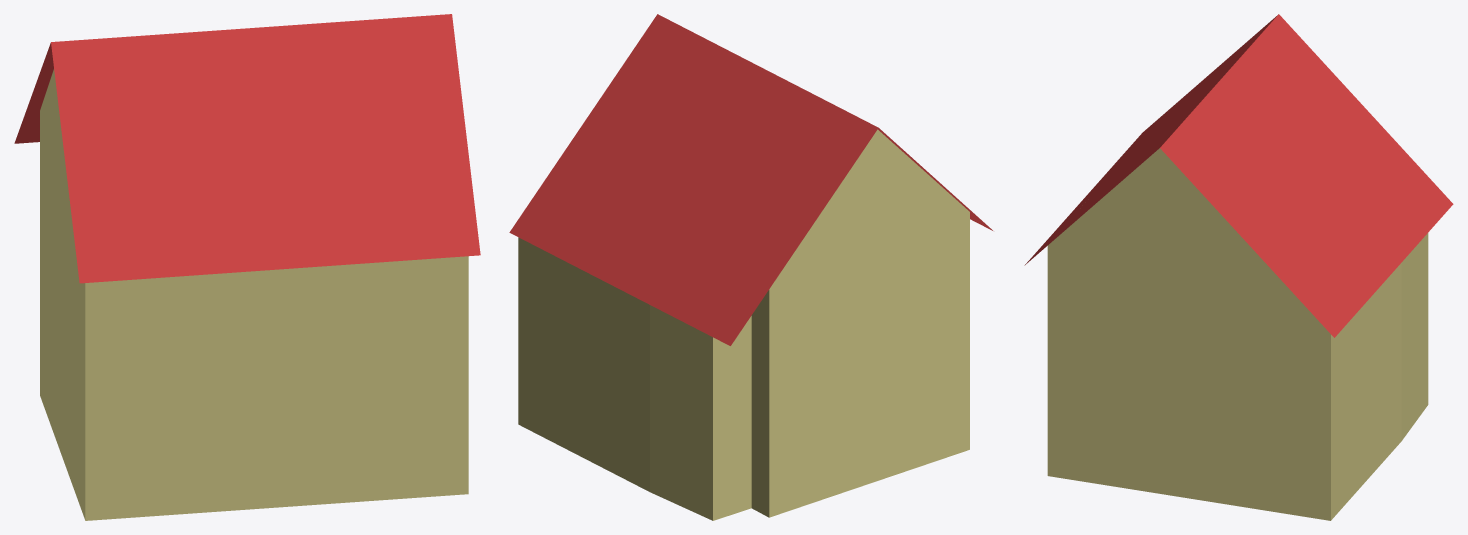
3 views of the same model, side by side, from view 1: azimuth 30°, elevation 25°; view 2: azimuth 150°, elevation 25°; view 3: azimuth 270°, elevation 25° (orthographic). The views are drawn at different scales.
Size of the model in its own units: 17.67 by 17.51 by 15.67.
